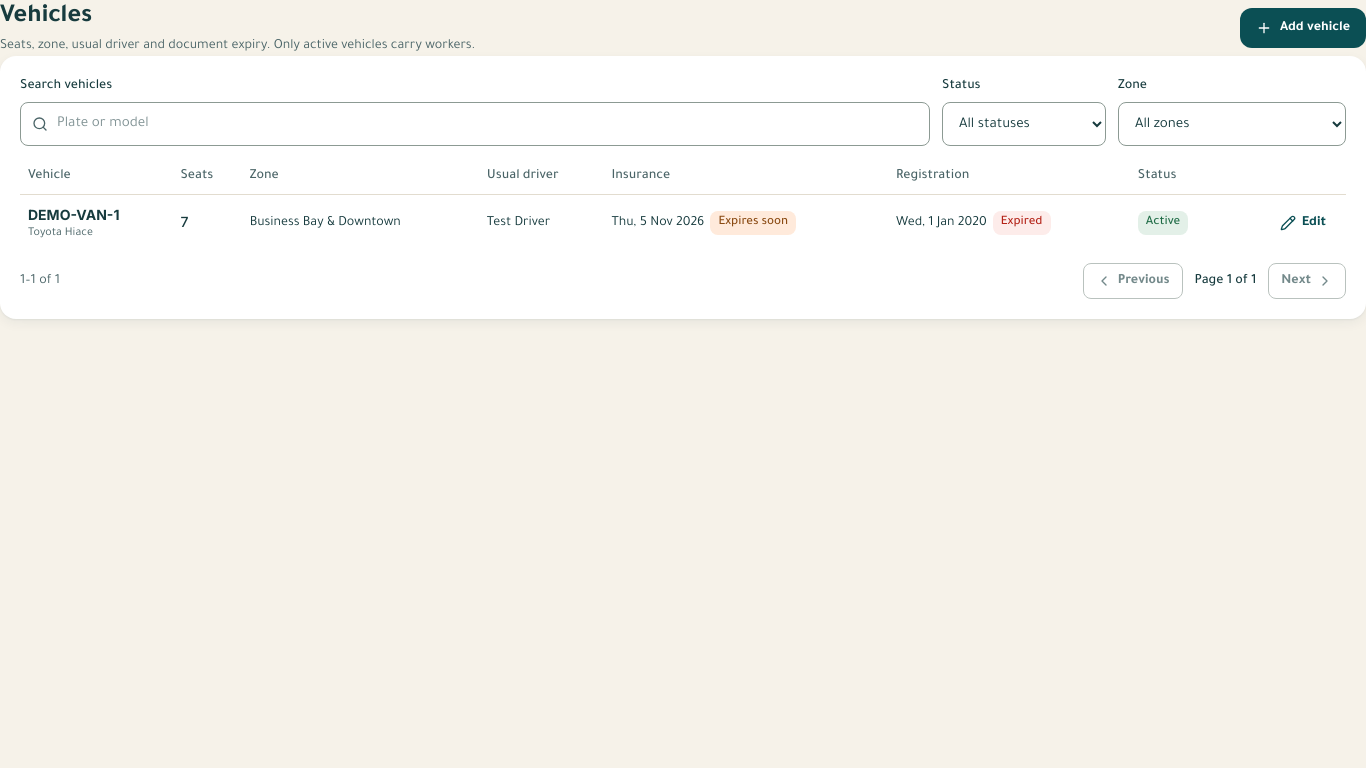
Test: operations permissions › keeps a vehicle's own usual driver in its picker
Click the button with aria-label "Edit DEMO-VAN-1" at (1303, 223), box [1268,205,1338,241]
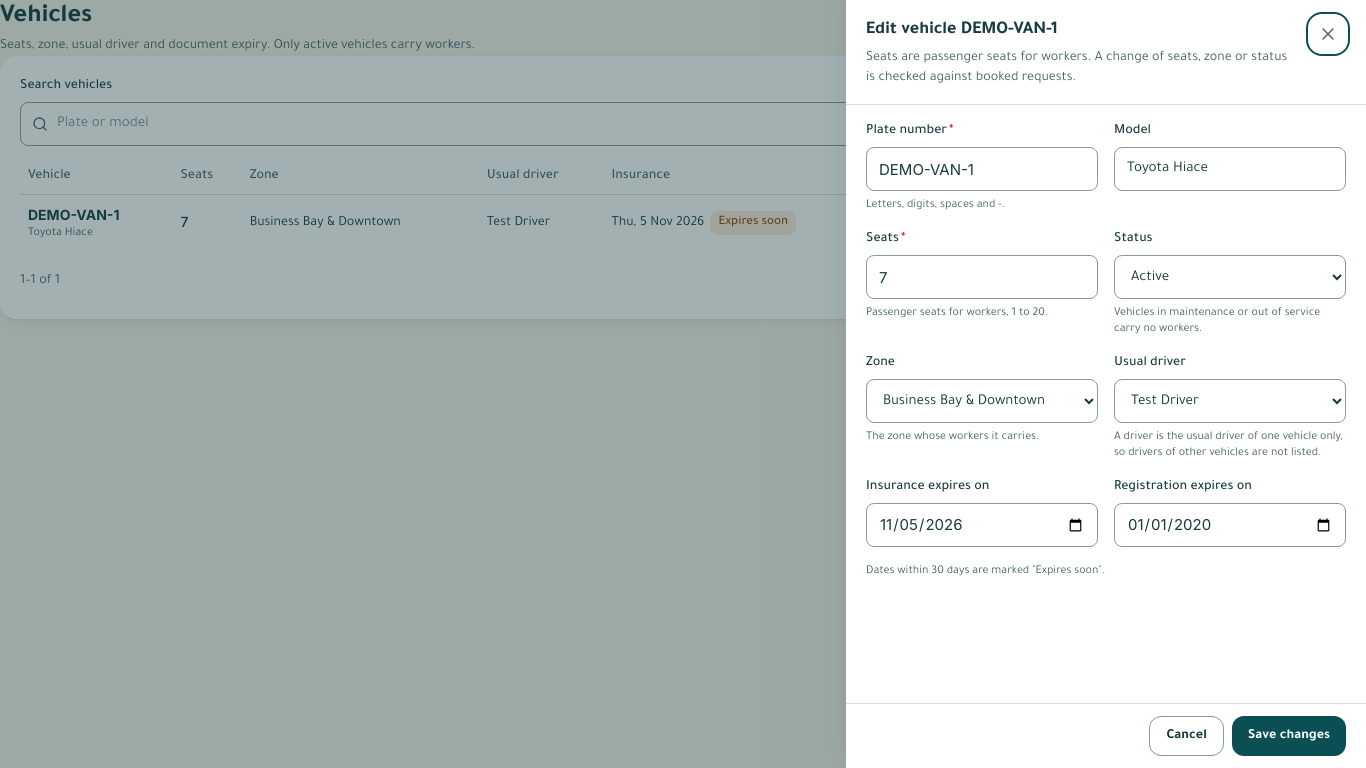
Result: the dropdown labelled "Usual driver" shows "Test Driver" at [1114,379,1346,423]
